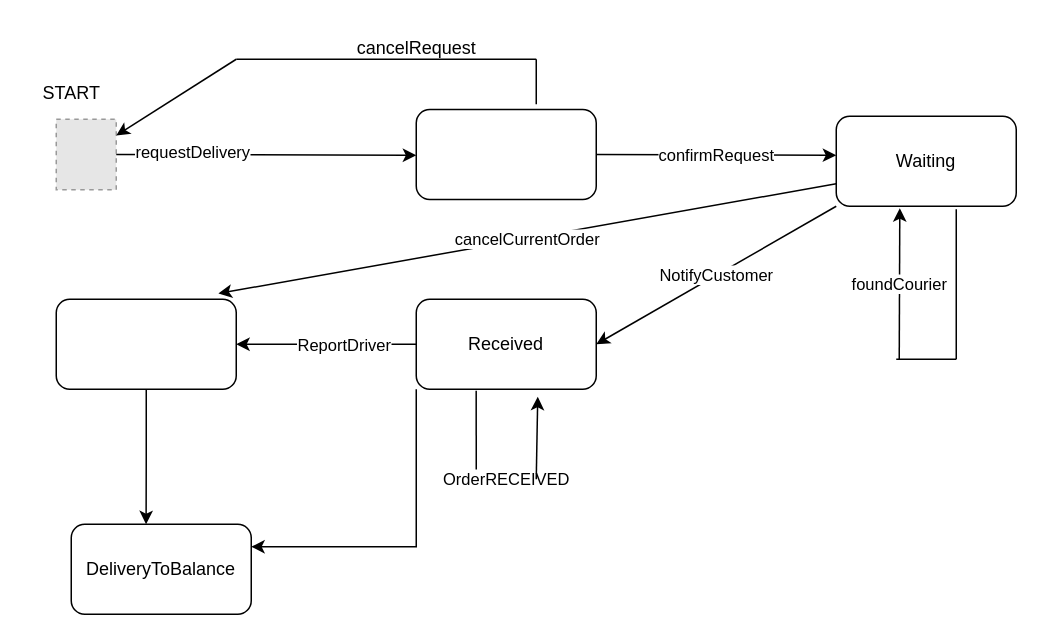
Image size: 1043x641. Some labels were removed from this diagram. Grey dashed boxes stand in for pictures. The centre of each missing label's shape, as x and y in pixels:
Cancelled: (145,343)
Existing: (505,154)
